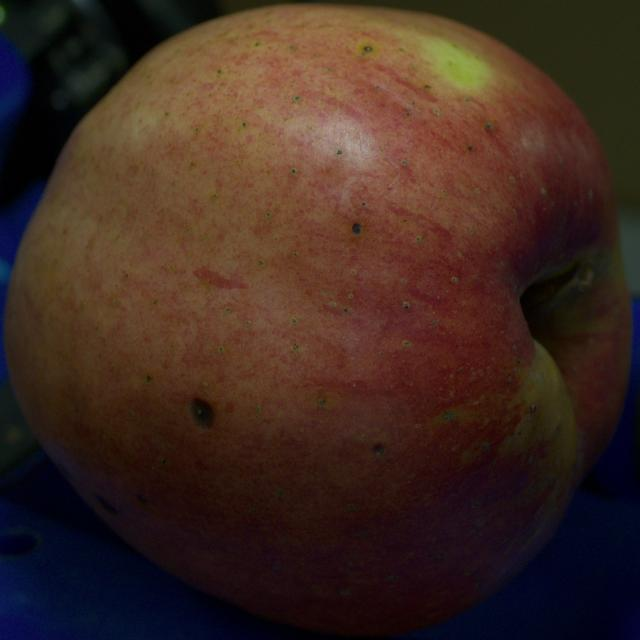apple: (6, 6, 631, 635)
pest: (191, 398, 213, 428), (96, 496, 118, 514), (136, 494, 148, 504), (374, 444, 384, 455), (352, 223, 361, 234), (364, 46, 372, 50)
scratch: (521, 256, 605, 325)
